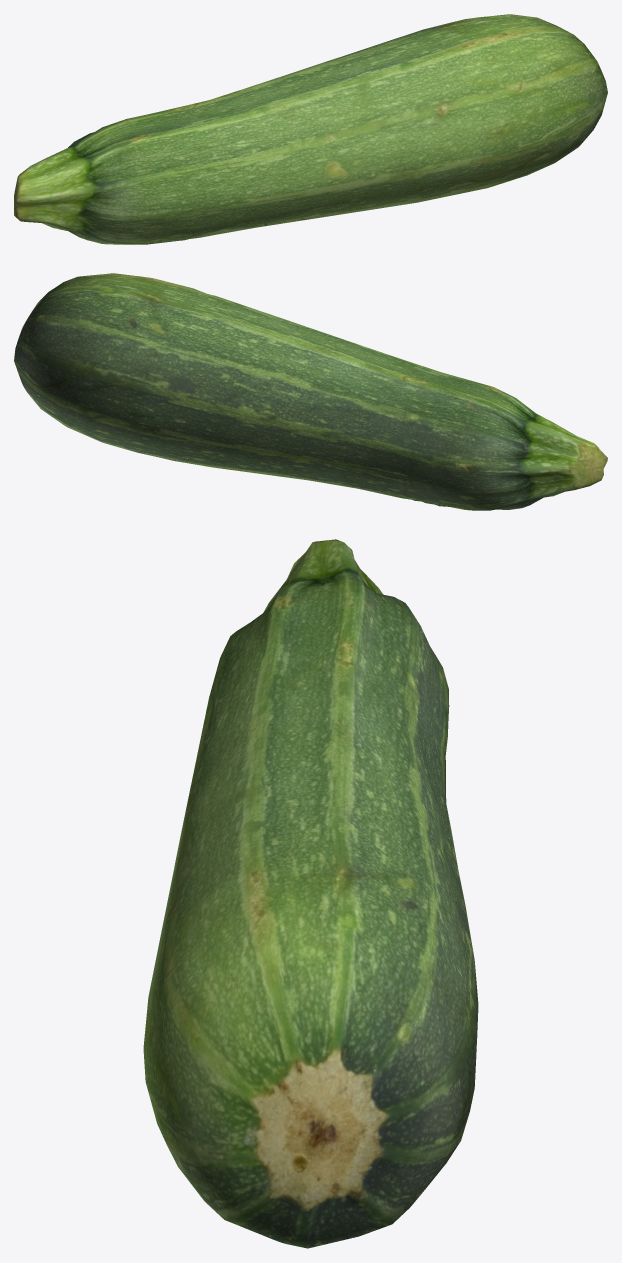
The model's file is GreenVegetableCourggete.fbx.
3 views of the same model, one above another, from view 1: azimuth 30°, elevation 25°; view 2: azimuth 150°, elevation 25°; view 3: azimuth 270°, elevation 25° (orthographic). The views are drawn at different scales.
Visible parts, largest first — view 1: Courggete; view 2: Courggete; view 3: Courggete.
Part boxes in pixels (x1,y1,x2,y2): Courggete: (14, 14, 607, 244); Courggete: (14, 273, 607, 510); Courggete: (143, 539, 478, 1248).
Size of the model in its own units: 0.2467 by 0.0617 by 0.0633.
1 material, 1 textured.
